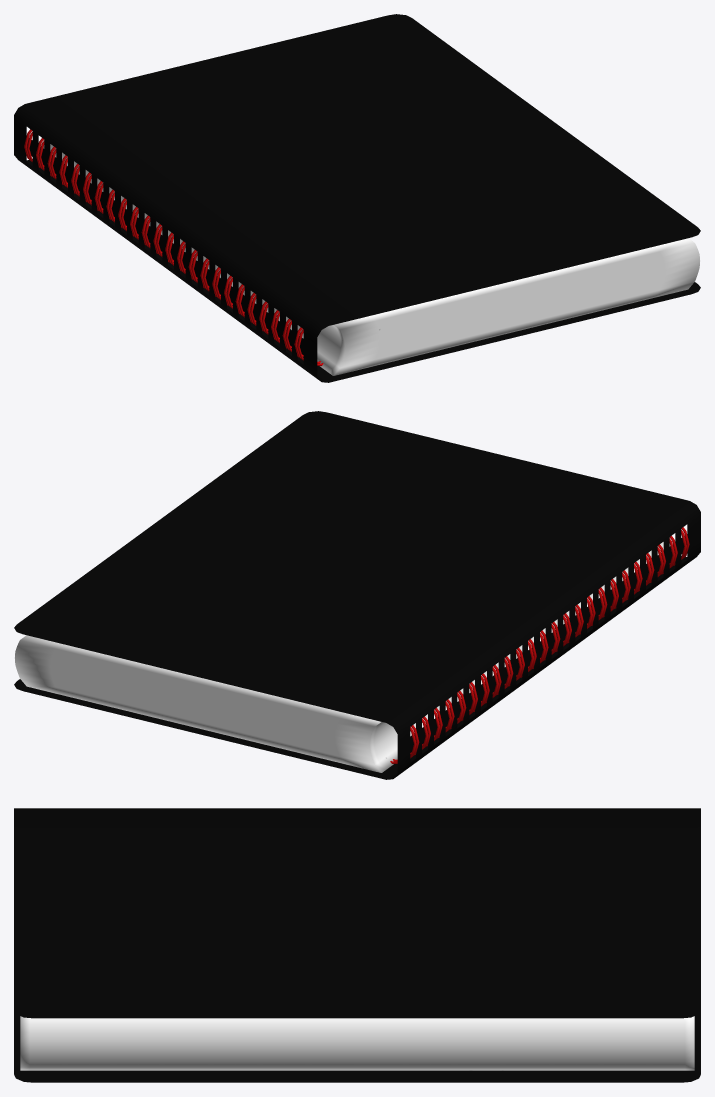
Rendered from spiral.glb.
3 views of the same model, one above another, from view 1: azimuth 30°, elevation 25°; view 2: azimuth 150°, elevation 25°; view 3: azimuth 270°, elevation 25° (orthographic). The views are drawn at different scales.
Visible parts, largest first — view 1: Cover, Pages, Spiral; view 2: Cover, Pages, Spiral; view 3: Cover, Pages.
Boxes of the visible parts, x1,y1,x2,y2 form: Cover: (14, 14, 700, 382); Pages: (43, 144, 699, 375); Spiral: (24, 129, 323, 365); Cover: (14, 411, 700, 779); Pages: (15, 542, 670, 772); Spiral: (390, 527, 689, 763); Cover: (14, 808, 700, 1082); Pages: (20, 1016, 694, 1070).
Size of the model in its own units: 2.88 by 0.3975 by 3.85.
1 material, 1 textured.
